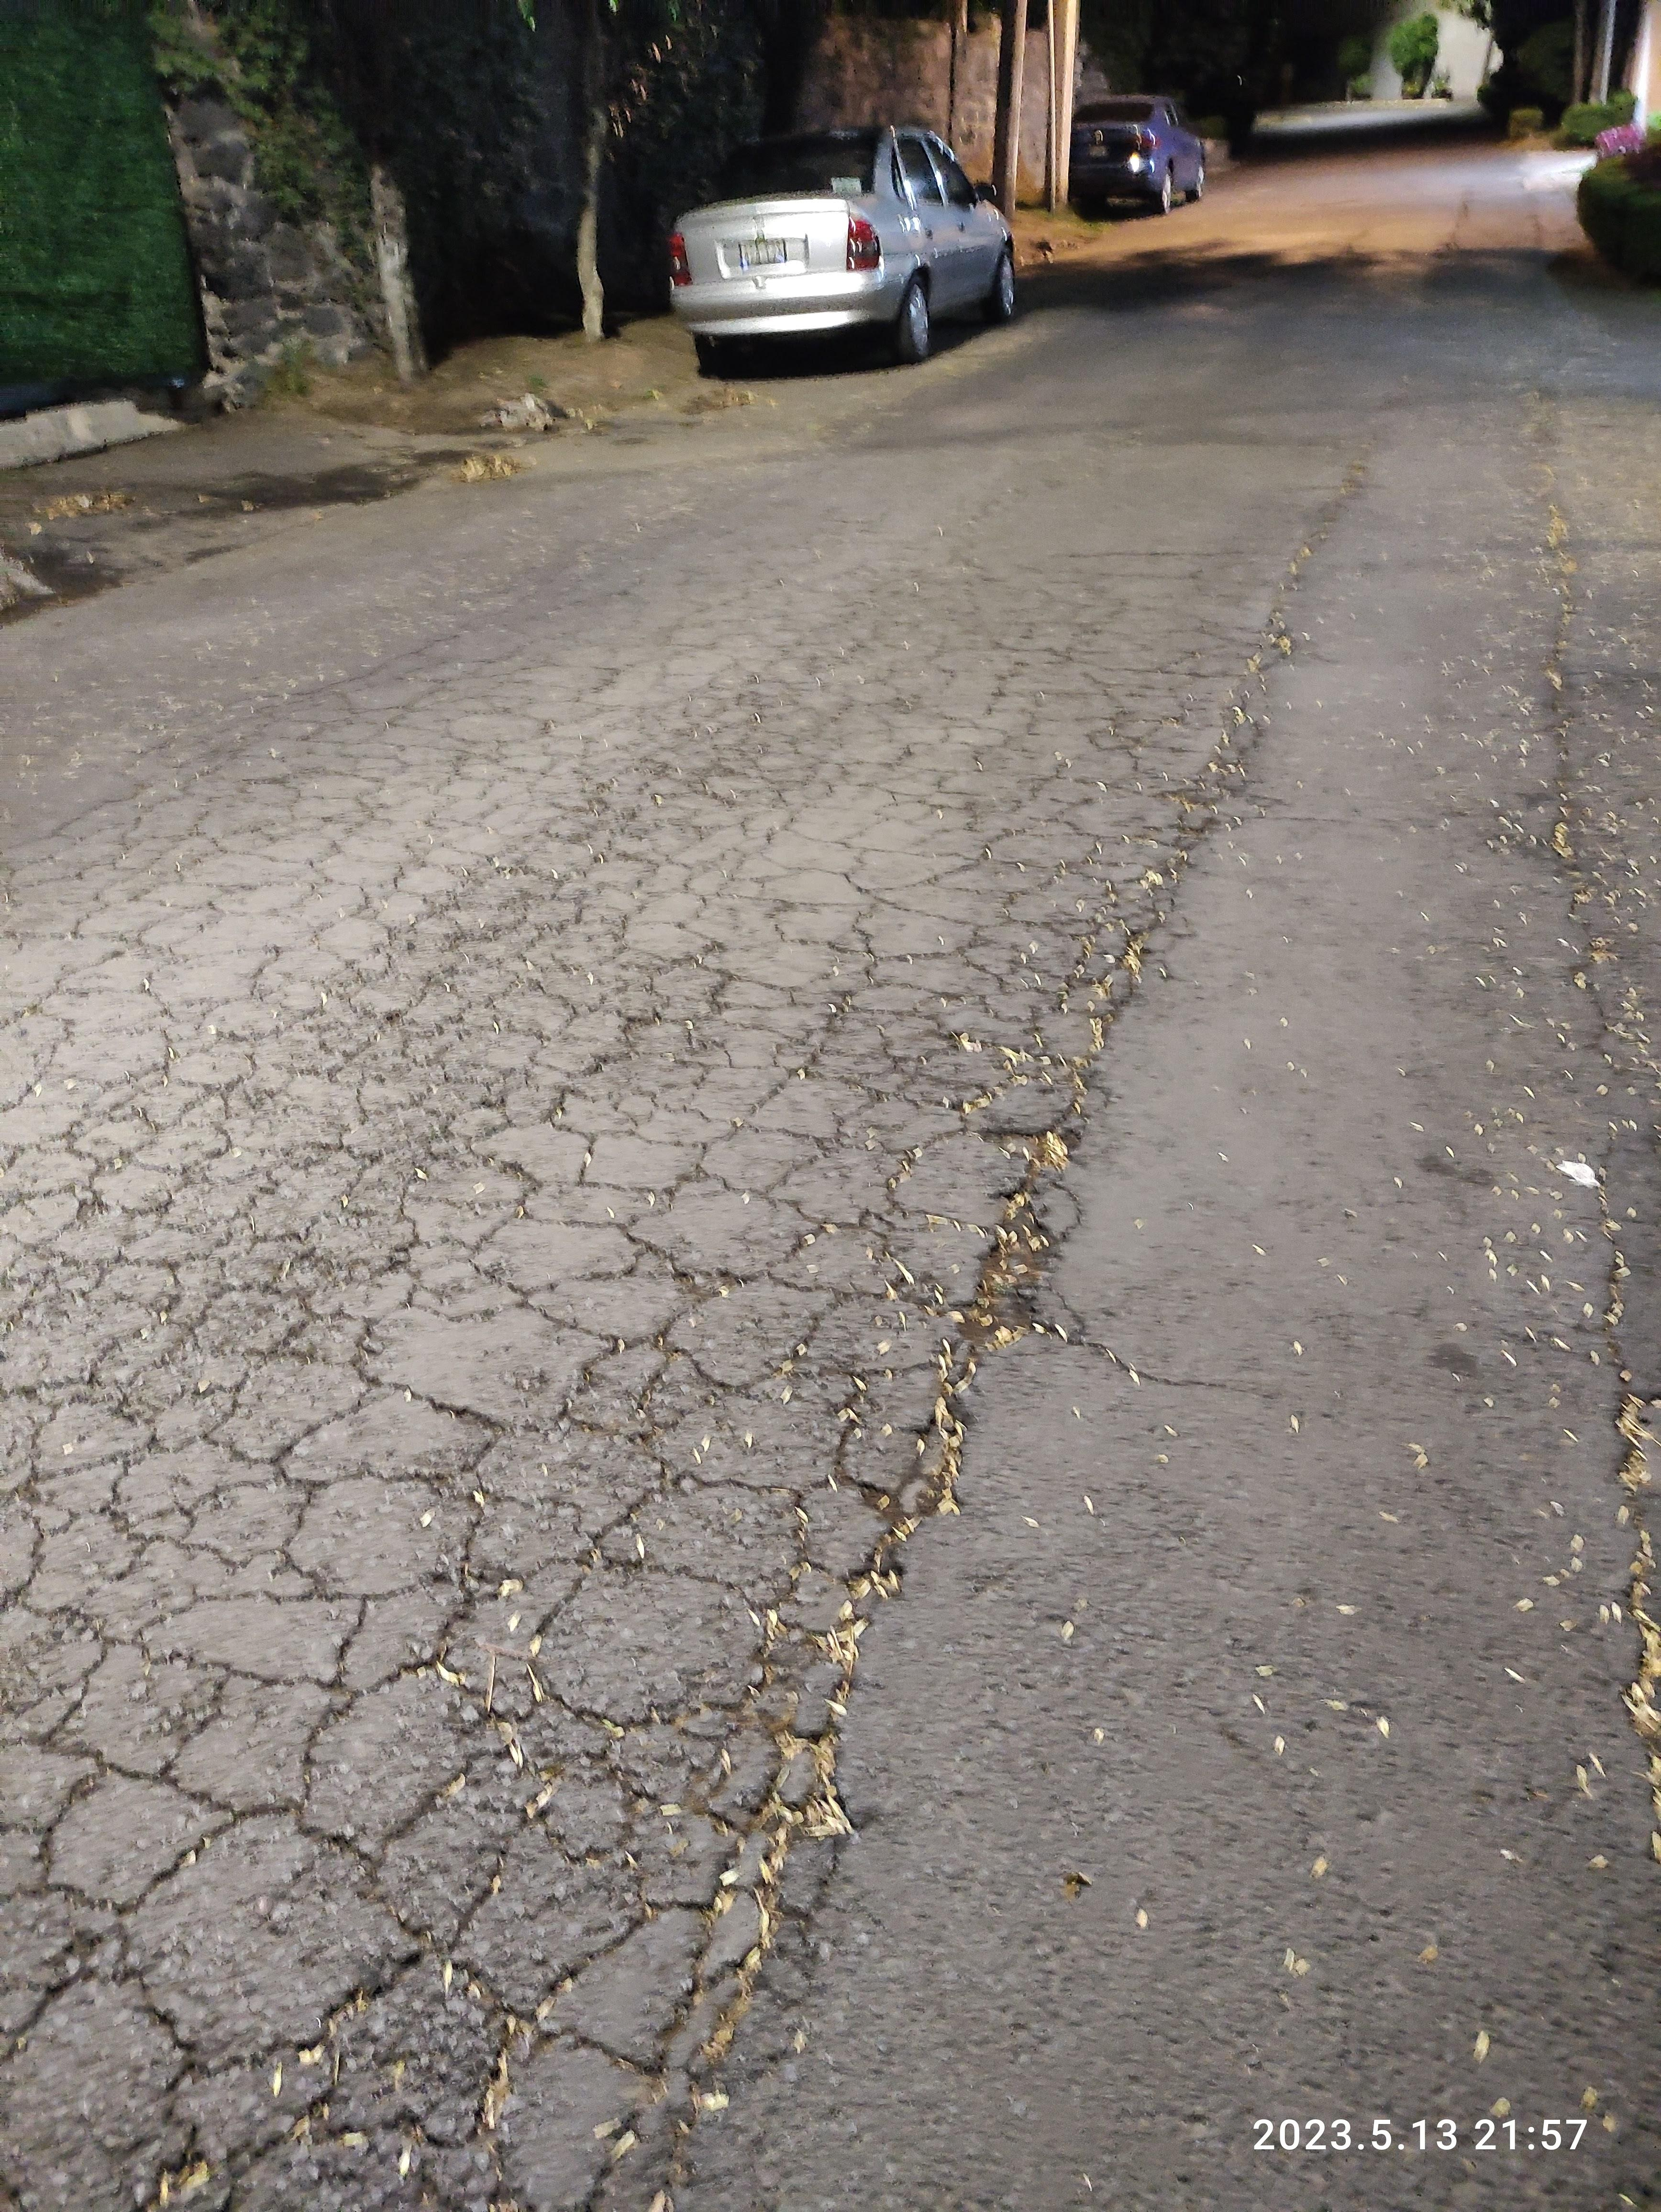alligator-crack: (10, 799, 797, 2212), (248, 536, 1122, 1396)
